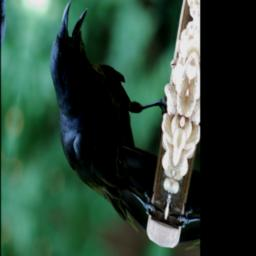Crow: (26, 0, 193, 240)
